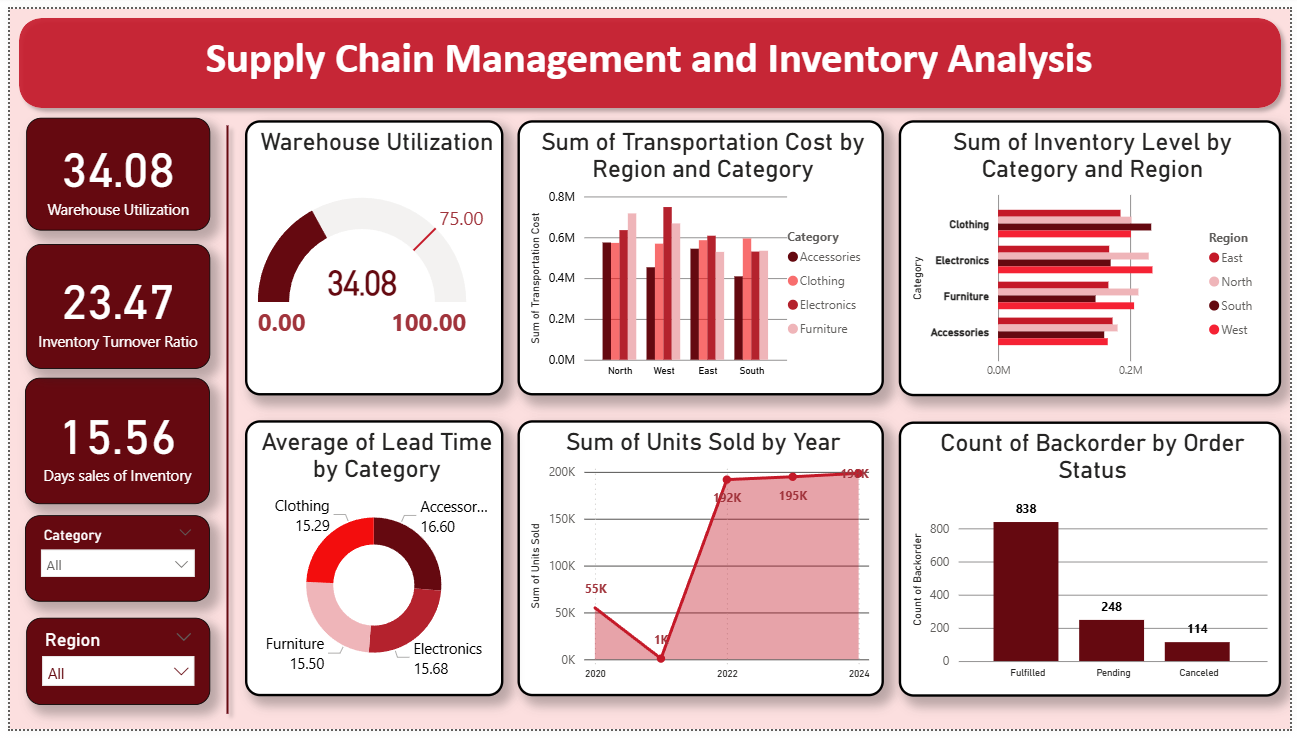

This screenshot's page, from the dashboard's own definition file:
{"tool":"powerbi","page":{"name":"Page 1","canvas":[1280,720],"ordinal":0},"visuals":[{"type":"shape","title":"aa","box":[0,0,1280,108],"z":0},{"type":"textbox","box":[170,18,938,74],"z":1000},{"type":"card","fields":{"Values":["SupplyChain_Dataset.Warehouse Utilization"]},"box":[16.2,108.8,183.8,112.5],"z":2000},{"type":"card","fields":{"Values":["SupplyChain_Dataset.Days sales of Inventory"]},"box":[15,368.8,185,126.2],"z":3000},{"type":"card","fields":{"Values":["SupplyChain_Dataset.Inventory Turnover Ratio"]},"box":[16.2,235,183.8,125],"z":4000},{"type":"slicer","fields":{"Values":["SupplyChain_Dataset.Category"]},"box":[15,506.2,185,86.2],"z":5000},{"type":"slicer","fields":{"Values":["SupplyChain_Dataset.Region"]},"box":[16.2,608.8,183.8,87.5],"z":6000},{"type":"gauge","fields":{"Y":["SupplyChain_Dataset.Warehouse Utilization"]},"box":[235,111.2,258.8,275],"z":7000},{"type":"clusteredColumnChart","fields":{"Y":["Sum(SupplyChain_Dataset.Transportation Cost)"],"Category":["SupplyChain_Dataset.Region"],"Series":["SupplyChain_Dataset.Category"]},"box":[507.5,111.2,366.2,275],"z":8000},{"type":"lineChart","fields":{"Y":["Sum(SupplyChain_Dataset.Units Sold)"],"Category":["SupplyChain_Dataset.Date.Variation.Date Hierarchy.Year"]},"box":[507.5,411.2,366.2,276.2],"z":9000},{"type":"donutChart","fields":{"Y":["Avg(SupplyChain_Dataset.Lead Time)"],"Category":["SupplyChain_Dataset.Category"]},"box":[235,411.2,258.8,276.2],"z":10000},{"type":"columnChart","fields":{"Y":["CountNonNull(SupplyChain_Dataset.Backorder)"],"Category":["SupplyChain_Dataset.Order Status"]},"box":[888.8,412.5,382.5,275],"z":11000},{"type":"shape","box":[200,107.5,35,606.2],"z":12000},{"type":"clusteredBarChart","fields":{"Y":["Sum(SupplyChain_Dataset.Inventory Level)"],"Category":["SupplyChain_Dataset.Category"],"Series":["SupplyChain_Dataset.Region"]},"box":[888.8,111.2,382.5,276.2],"z":13000}]}

Visuals, with their boxes in screenshot pixels (x1, y1, x2, y2), scaled from the page's 1280x720 canvas onto the 1297x738 screenshot:
"aa" shape: detection(0, 0, 1296, 111)
textbox: detection(172, 18, 1123, 94)
card - SupplyChain_Dataset.Warehouse Utilization: detection(16, 112, 203, 227)
card - SupplyChain_Dataset.Days sales of Inventory: detection(15, 378, 203, 507)
card - SupplyChain_Dataset.Inventory Turnover Ratio: detection(16, 241, 203, 369)
slicer - SupplyChain_Dataset.Category: detection(15, 519, 203, 607)
slicer - SupplyChain_Dataset.Region: detection(16, 624, 203, 714)
gauge - SupplyChain_Dataset.Warehouse Utilization: detection(238, 114, 500, 396)
clusteredColumnChart - Sum(SupplyChain_Dataset.Transportation Cost) x SupplyChain_Dataset.Region: detection(514, 114, 885, 396)
lineChart - Sum(SupplyChain_Dataset.Units Sold) x SupplyChain_Dataset.Date.Variation.Date Hierarchy.Year: detection(514, 421, 885, 705)
donutChart - Avg(SupplyChain_Dataset.Lead Time) x SupplyChain_Dataset.Category: detection(238, 421, 500, 705)
columnChart - CountNonNull(SupplyChain_Dataset.Backorder) x SupplyChain_Dataset.Order Status: detection(901, 423, 1288, 705)
shape: detection(203, 110, 238, 732)
clusteredBarChart - Sum(SupplyChain_Dataset.Inventory Level) x SupplyChain_Dataset.Category: detection(901, 114, 1288, 397)
